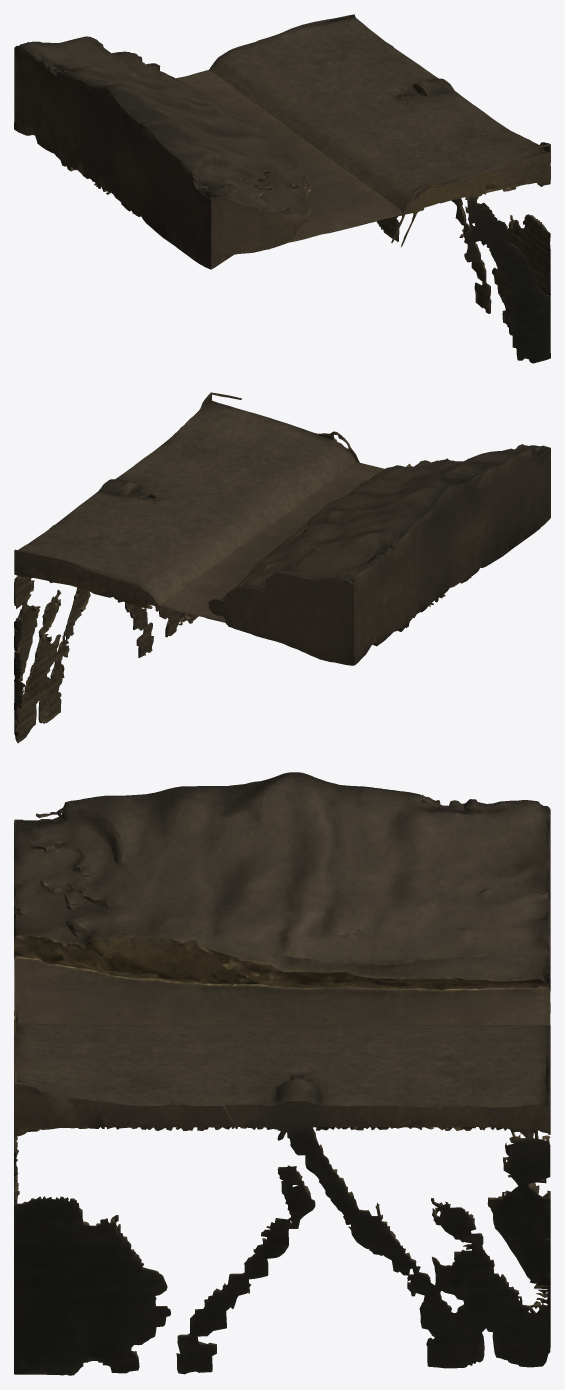
3 renders of one model, top to bottom at view 1: azimuth 30°, elevation 25°; view 2: azimuth 150°, elevation 25°; view 3: azimuth 270°, elevation 25°, orthographic. The views are drawn at different scales.
Visible parts, largest first — view 1: world; view 2: world; view 3: world.
Part boxes in pixels (bbox=[...]): world: bbox=[14, 14, 550, 363]; world: bbox=[14, 392, 550, 743]; world: bbox=[14, 772, 550, 1375].
Bounding box in the file's own units: 1.2 × 0.9376 × 1.2.
1 material, 1 textured.
